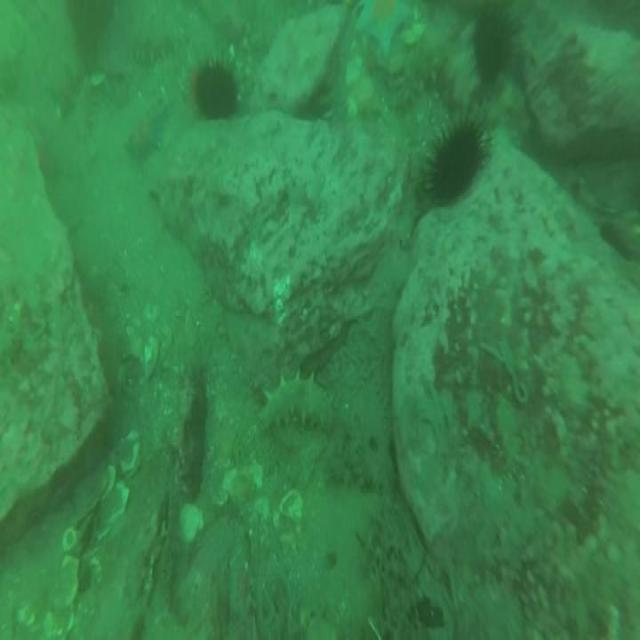echinus: (420, 101, 492, 213), (190, 50, 244, 126), (469, 6, 516, 90), (66, 0, 119, 44)
holothurian: (253, 368, 339, 441), (390, 54, 442, 107), (126, 28, 180, 72), (74, 65, 98, 150)
starfish: (351, 0, 417, 58), (122, 101, 172, 169)
